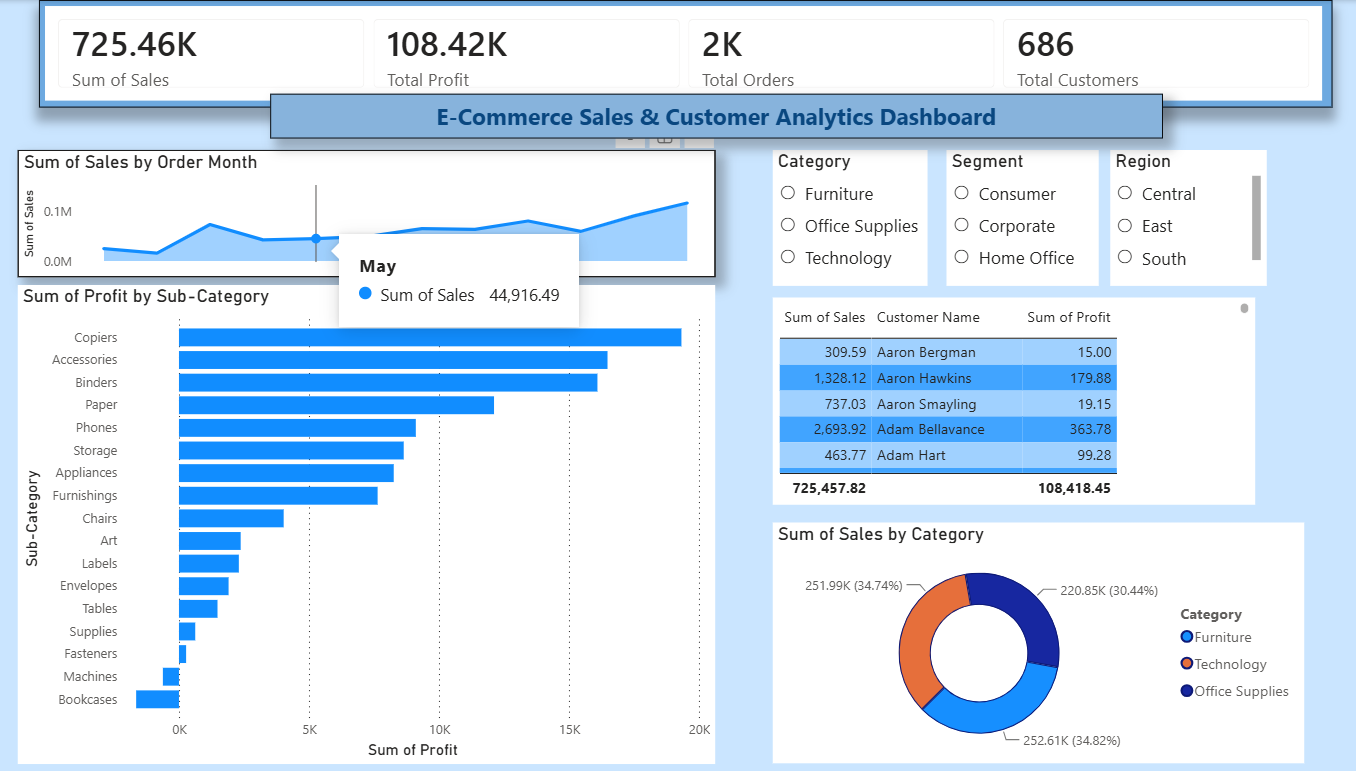

The page's visual inventory and layout, read from the dashboard file:
{"tool":"powerbi","page":{"name":"Dashboard","canvas":[1280,720],"ordinal":0},"visuals":[{"type":"listSlicer","fields":{"Values":["cleaned_superstore.Region"]},"box":[1033.7,139.5,145.3,126.7],"z":0},{"type":"listSlicer","fields":{"Values":["cleaned_superstore.Category"]},"box":[719.8,139.5,144.2,126.7],"z":1000},{"type":"lineChart","fields":{"Y":["Sum(cleaned_superstore.Sales)"],"Category":["cleaned_superstore.Order Month"]},"box":[17.4,139.5,648.8,118.6],"z":2000},{"type":"donutChart","fields":{"Category":["cleaned_superstore.Category"],"Y":["Sum(cleaned_superstore.Sales)"]},"box":[720,485.7,494.3,224.3],"z":3000},{"type":"tableEx","fields":{"Values":["Sum(cleaned_superstore.Sales)","cleaned_superstore.Customer Name","Sum(cleaned_superstore.Profit)"]},"box":[720,277.1,448.6,192.9],"z":4000},{"type":"clusteredBarChart","fields":{"Category":["cleaned_superstore.Sub-Category"],"Y":["Sum(cleaned_superstore.Profit)"]},"box":[17.4,265.1,648.8,445.4],"z":5000},{"type":"cardVisual","fields":{"Data":["Sum(cleaned_superstore.Sales)","cleaned_superstore.Total Profit","cleaned_superstore.Total Orders","cleaned_superstore.Total Customers"]},"box":[37.2,0,1203.5,100],"z":6000},{"type":"listSlicer","fields":{"Values":["cleaned_superstore.Segment"]},"box":[881.4,139.5,141.9,126.7],"z":7000},{"type":"textbox","box":[252.3,87.2,830.2,41.9],"z":8000}]}

Visuals, with their boxes in screenshot pixels (x1, y1, x2, y2), scaled from the page's 1280x720 canvas onto the 1356x771 screenshot:
listSlicer - cleaned_superstore.Region: <region>1095, 149, 1249, 285</region>
listSlicer - cleaned_superstore.Category: <region>763, 149, 915, 285</region>
lineChart - Sum(cleaned_superstore.Sales) x cleaned_superstore.Order Month: <region>18, 149, 706, 276</region>
donutChart - cleaned_superstore.Category x Sum(cleaned_superstore.Sales): <region>763, 520, 1286, 760</region>
tableEx - Sum(cleaned_superstore.Sales) x cleaned_superstore.Customer Name: <region>763, 297, 1238, 503</region>
clusteredBarChart - cleaned_superstore.Sub-Category x Sum(cleaned_superstore.Profit): <region>18, 284, 706, 761</region>
cardVisual - Sum(cleaned_superstore.Sales) x cleaned_superstore.Total Profit: <region>39, 0, 1314, 107</region>
listSlicer - cleaned_superstore.Segment: <region>934, 149, 1084, 285</region>
textbox: <region>267, 93, 1147, 138</region>
